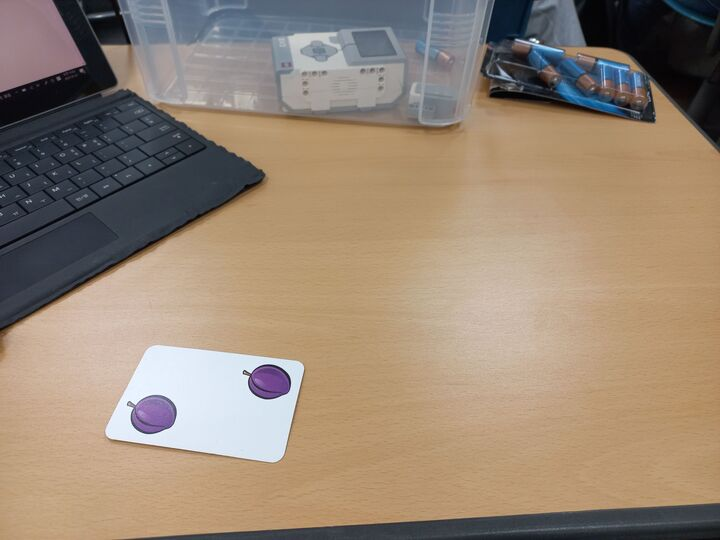plum2: (104, 344, 306, 463)
